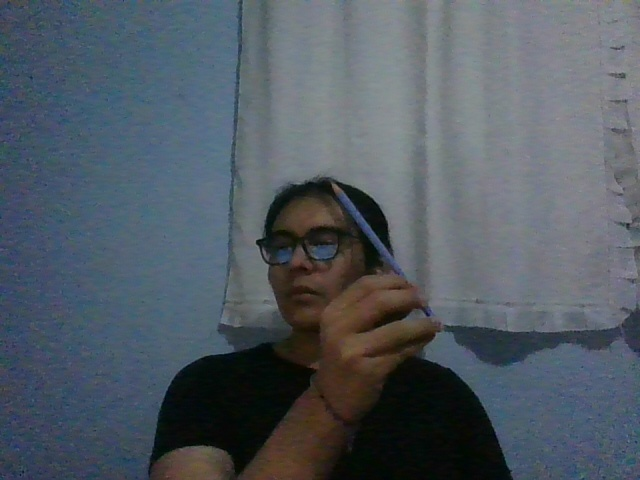lapiz: (329, 179, 433, 317)
